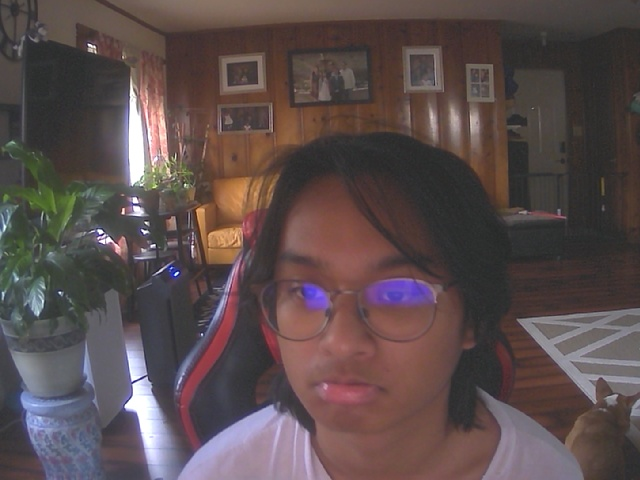sad: (248, 131, 494, 436)
